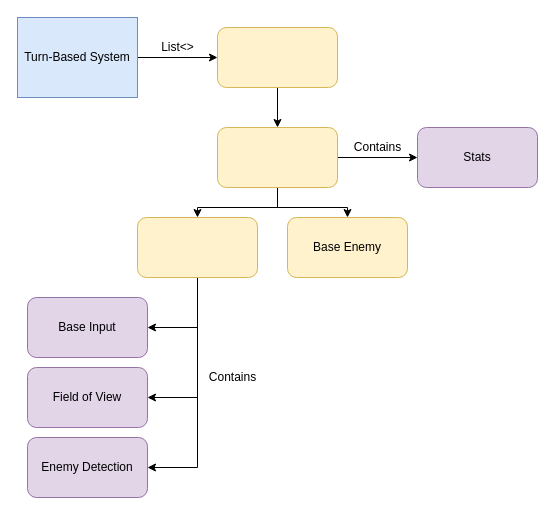
Image size: 555x515. Some labels were removed from this diagram. The centre of each missing label's shape, as x and y in pixels:
"Actor" belongs at point 277,57.
"Dynamic Actor" belongs at point 277,157.
"Hero" belongs at point 197,247.
